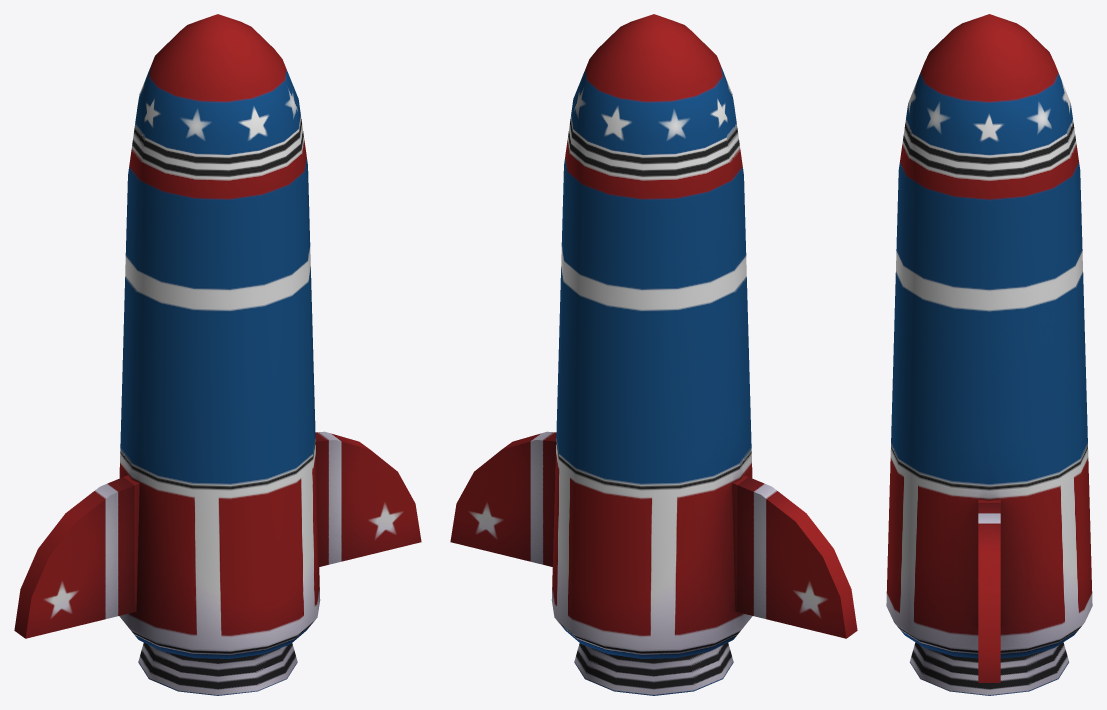
The picture shows the model from 3 angles, left to right: view 1: azimuth 30°, elevation 25°; view 2: azimuth 150°, elevation 25°; view 3: azimuth 270°, elevation 25°; orthographic projection.
Parts seen in each view (by area): view 1: S003; view 2: S003; view 3: S003.
Boxes of the visible parts, x1=… form: S003: x1=14, y1=14, x2=421, y2=695; S003: x1=450, y1=14, x2=857, y2=695; S003: x1=886, y1=14, x2=1092, y2=695.
Size of the model in its own units: 18.22 by 28.49 by 8.21.
Materials: 1 (1 with a texture image).
